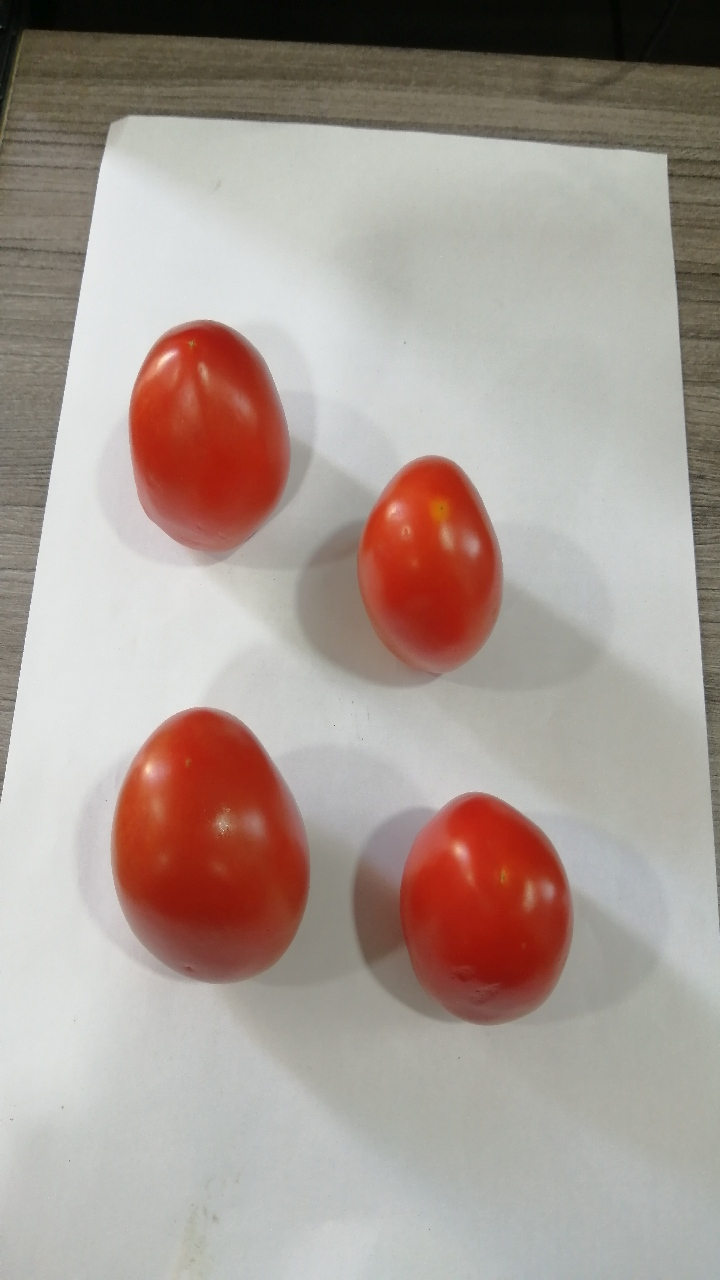tomateRojo: (84, 685, 326, 1000), (378, 772, 584, 1042), (334, 439, 540, 695), (109, 308, 304, 565)
